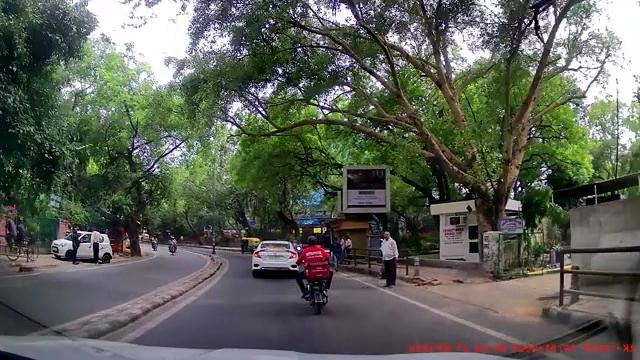motorcycle_without_helmet: (297, 234, 334, 315)
